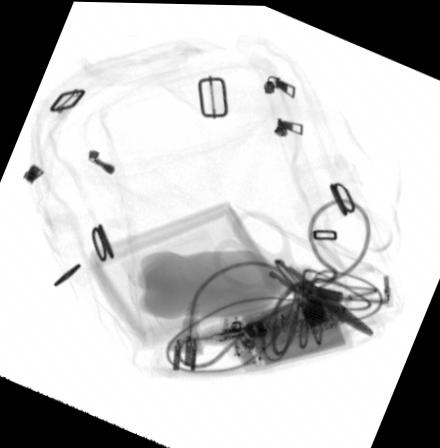Powerbank: (225, 287, 354, 373)
Scissors: (208, 207, 381, 340)
